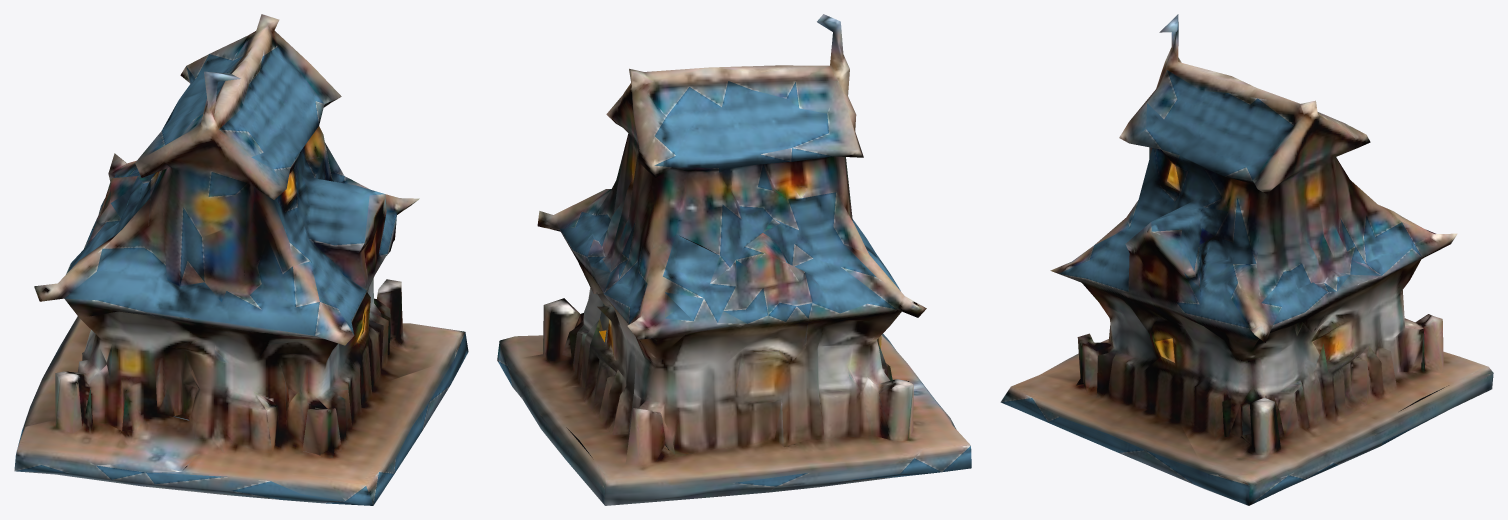
File: keep_l1_far.glb
The picture shows the model from 3 angles, left to right: view 1: azimuth 30°, elevation 25°; view 2: azimuth 150°, elevation 25°; view 3: azimuth 270°, elevation 25°; orthographic projection. The views are drawn at different scales.
Visible parts, largest first — view 1: keep_l1_far; view 2: keep_l1_far; view 3: keep_l1_far.
Part boxes in pixels (x1,y1,x2,y2): keep_l1_far: (14,14,468,505); keep_l1_far: (497,14,971,505); keep_l1_far: (1000,14,1493,505).
Bounding box in the file's own units: 4.49 × 3.61 × 4.47.
Materials: 3 (3 with a texture image).
